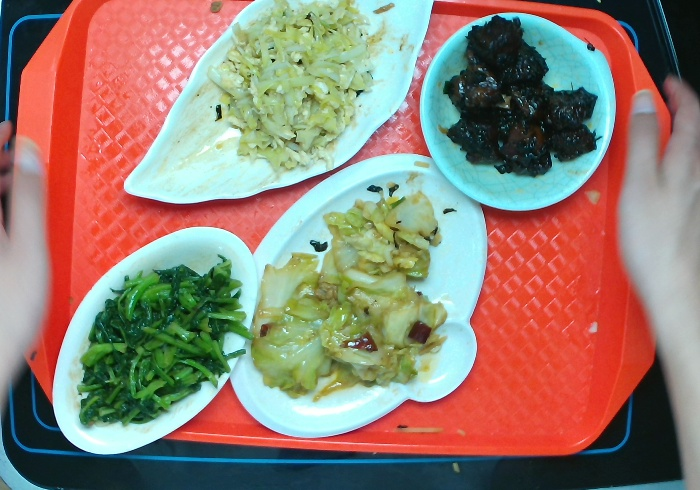RJxy-Bai_Se_Tuo_Yuan: (41, 221, 259, 460)
RJxy-Shu_Ye_Pan: (117, 1, 441, 208)
RJxy-Xiao_Jiao_Yuan_Wan: (412, 11, 618, 215)
RJxy-Zhan_Liao_Pan: (230, 145, 490, 440)
